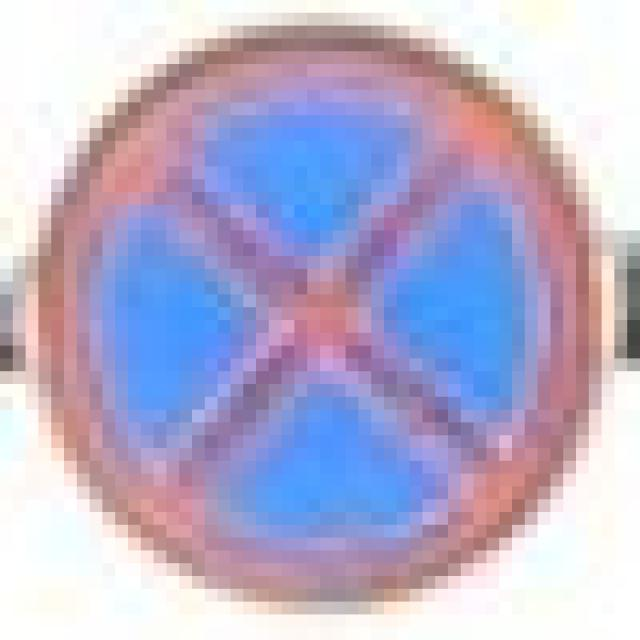NO_STOPPING_OR_STANDING: (26, 26, 576, 588)
